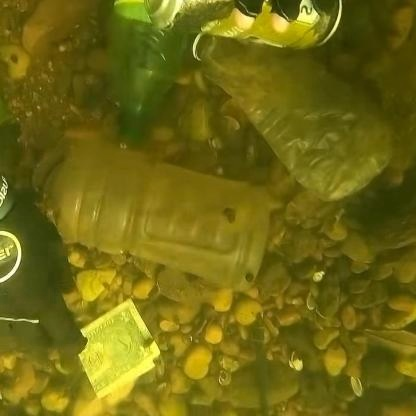can: (192, 0, 347, 48)
pbottle: (16, 155, 279, 316), (207, 14, 382, 200), (116, 1, 179, 140)
